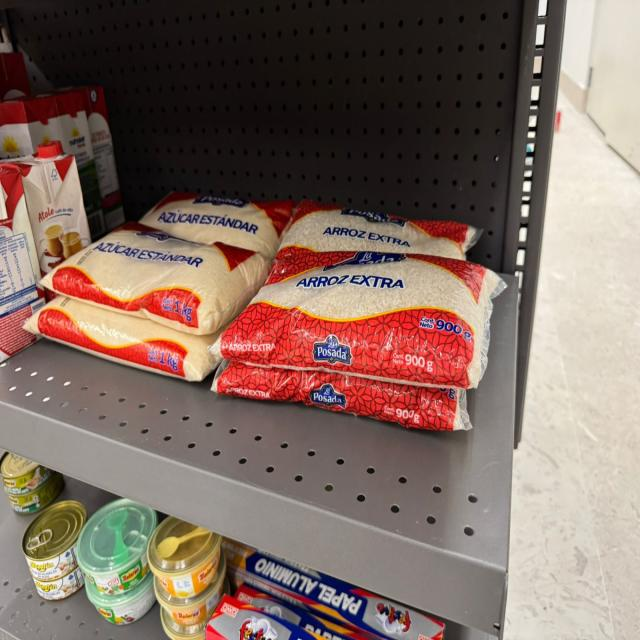ATUN DOLORES EN ACEITE 130GRS: (0, 451, 58, 496), (6, 472, 66, 515)
Arroz La Posada 900 gr: (209, 243, 504, 391), (210, 361, 473, 432), (277, 196, 483, 261)
Atun Mazatun Agua Sin Soya 130grs: (22, 500, 88, 582), (33, 567, 85, 601)
Azucar Estandar La Posada 1 kg: (40, 219, 274, 334), (21, 294, 226, 383), (138, 190, 297, 259)
CARNATION Leche Evaporada 720g: (3, 139, 94, 279), (0, 163, 53, 363)
DOLORES ENSALADA CON VERDURAS MAXI CUP CAN 240gr: (77, 497, 158, 594), (85, 571, 157, 625)
Dolores SURFY Cup Can Elotitos 24135 gr: (146, 515, 224, 598), (153, 545, 227, 626), (160, 576, 227, 639)
PLC NUTRALAT FORTE 1 LT: (0, 91, 107, 241)
Papel aluminio festivo rollo 76 m X 30 cm pz: (221, 537, 445, 639), (234, 584, 377, 639), (206, 593, 344, 639)
